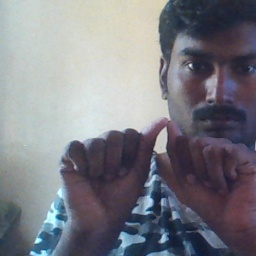A: (79, 115, 247, 222)
